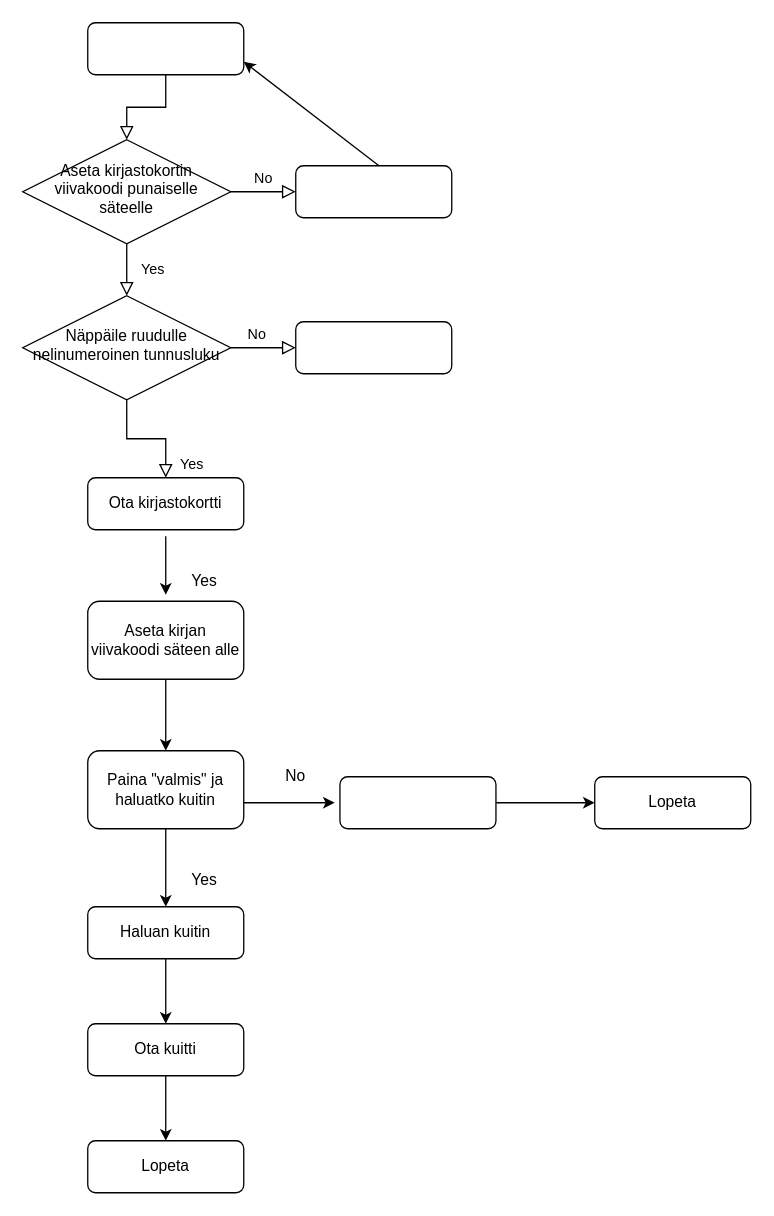
Some shapes in this 774 by 1216 pixel diagram are drawn without their labels. The centre of each missing label's shape, as x and y in pixels:
Aloita: point 165,48
En halua kuittia: point 417,802
Hanki uusi kirjastokortti: point 373,191
Paina lopeta: point 373,347
